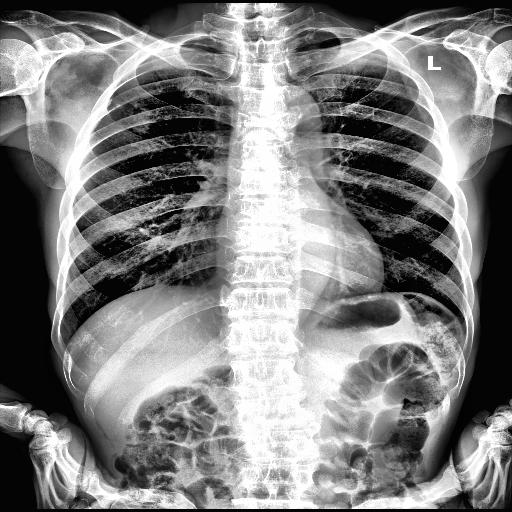0- Aortic enlargement: (258, 82, 324, 142), (264, 86, 321, 134)
11- Pleural thickening: (188, 34, 216, 42)
13- Pulmonary fibrosis: (114, 98, 172, 136)
6- Infiltration: (112, 100, 158, 135)
7- Lung Opacity: (114, 98, 172, 136)
